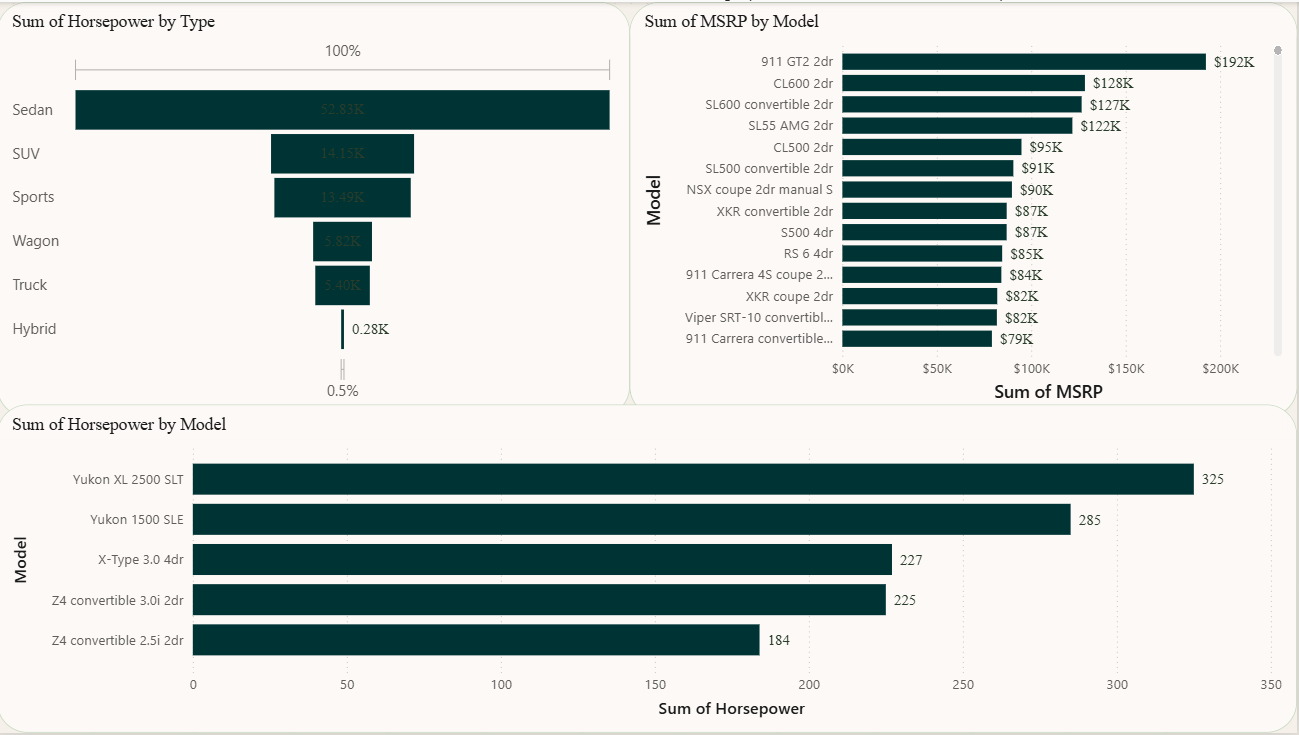

What the dashboard file says about the page in this screenshot:
{"tool":"powerbi","page":{"name":"Page 3","canvas":[1280,720],"ordinal":2},"visuals":[{"type":"funnel","fields":{"Y":["Sum(CARS.Horsepower)"],"Category":["CARS.Type"]},"box":[0,0,623,408.9],"z":0},{"type":"barChart","fields":{"Y":["Sum(CARS.MSRP)"],"Category":["CARS.Model"]},"box":[623,0,657.3,408.9],"z":1000},{"type":"barChart","fields":{"Category":["CARS.Model"],"Y":["Sum(CARS.Horsepower)"]},"box":[0,396.9,1280,323.3],"z":2000}]}

Visuals, with their boxes in screenshot pixels (x1, y1, x2, y2), scaled from the page's 1280x720 canvas onto the 1299x735 screenshot:
funnel - Sum(CARS.Horsepower) x CARS.Type: 0/0/632/417
barChart - Sum(CARS.MSRP) x CARS.Model: 632/0/1298/417
barChart - CARS.Model x Sum(CARS.Horsepower): 0/405/1298/734
